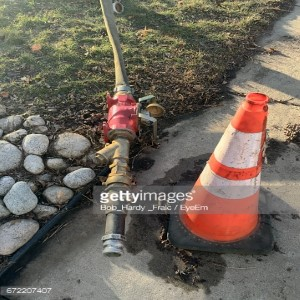traffic cone: (169, 92, 273, 254)
